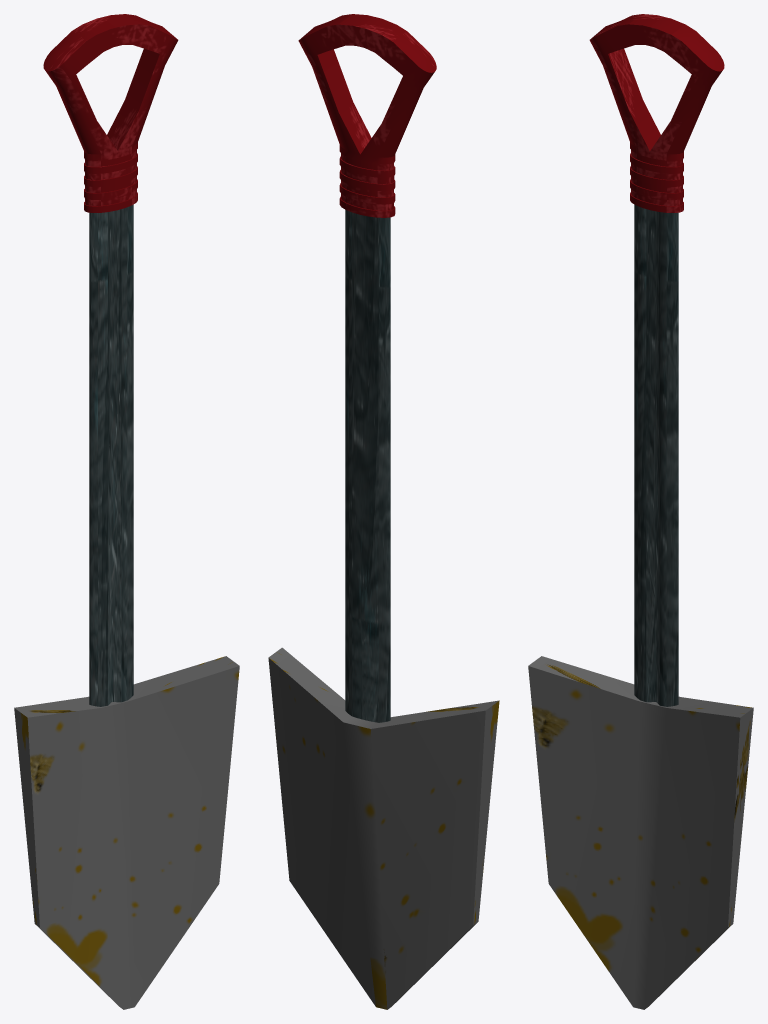
Rendered from shovel.fbx.
3 views of the same model, side by side, from view 1: azimuth 30°, elevation 25°; view 2: azimuth 150°, elevation 25°; view 3: azimuth 330°, elevation 25° (orthographic). The views are drawn at different scales.
Visible parts, largest first — view 1: pCylinder3; view 2: pCylinder3; view 3: pCylinder3.
Part boxes in pixels (box(x1,y1,x2,y2)): pCylinder3: box(14, 14, 239, 1009); pCylinder3: box(268, 14, 499, 1009); pCylinder3: box(528, 14, 753, 1009).
Bounding box in the file's own units: 1.18 × 5.18 × 0.3202.
3 materials, 3 textured.
